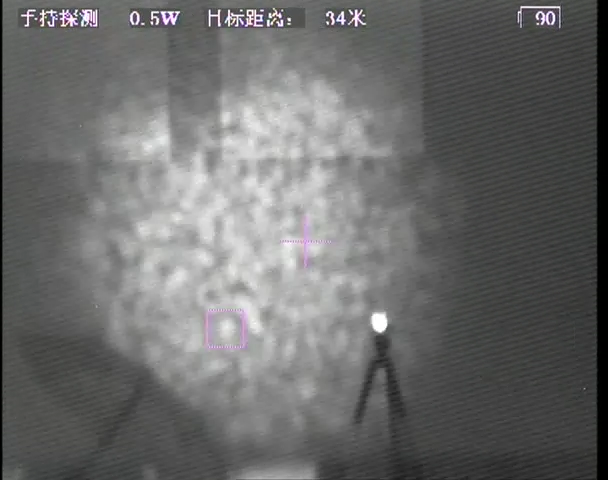my: (371, 311, 391, 334)
